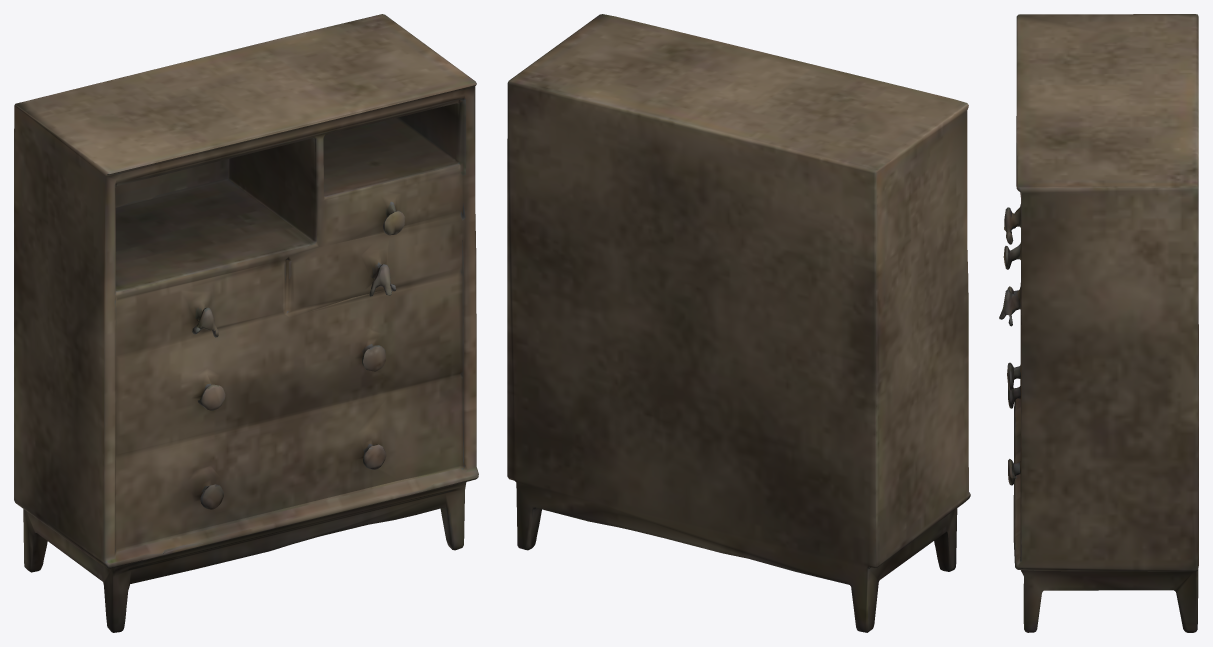
File: simple-wood-filing-cabinet-v001.glb
The picture shows the model from 3 angles, left to right: view 1: azimuth 30°, elevation 25°; view 2: azimuth 150°, elevation 25°; view 3: azimuth 270°, elevation 25°; orthographic projection. The views are drawn at different scales.
Visible parts, largest first — view 1: simple-wood-filing-cabinet; view 2: simple-wood-filing-cabinet; view 3: simple-wood-filing-cabinet.
Part boxes in pixels (<box>): simple-wood-filing-cabinet: <box>14,14,478,632</box>; simple-wood-filing-cabinet: <box>507,14,970,632</box>; simple-wood-filing-cabinet: <box>999,14,1198,632</box>.
Bounding box in the file's own units: 1.17 × 1.4 × 0.5606.
Materials: 1 (1 with a texture image).
